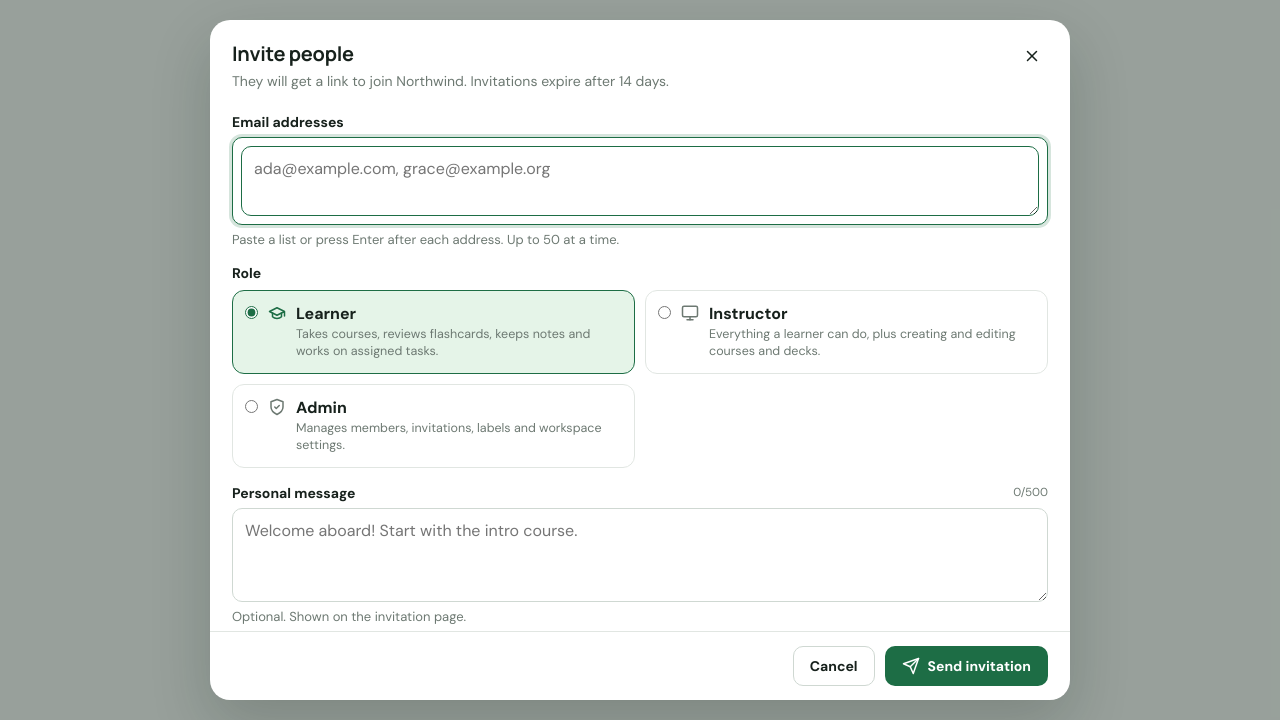
Test: InviteModal › removes a chip with its button
In the text box named "Email addresses": (640, 181) top-left (241, 146), bottom-right (1039, 216), type "ada@example.com, grace@example.org,"
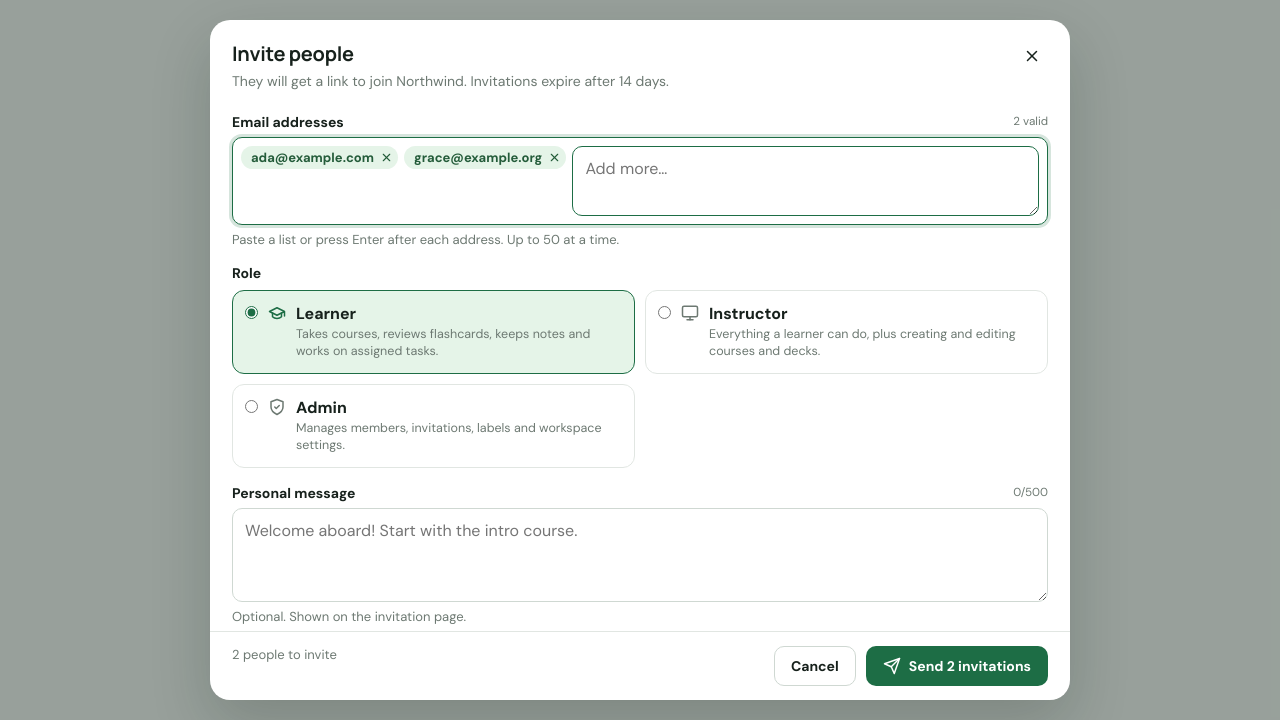
Click the button named "Remove ada@example.com": (386, 157) top-left (378, 149), bottom-right (395, 166)
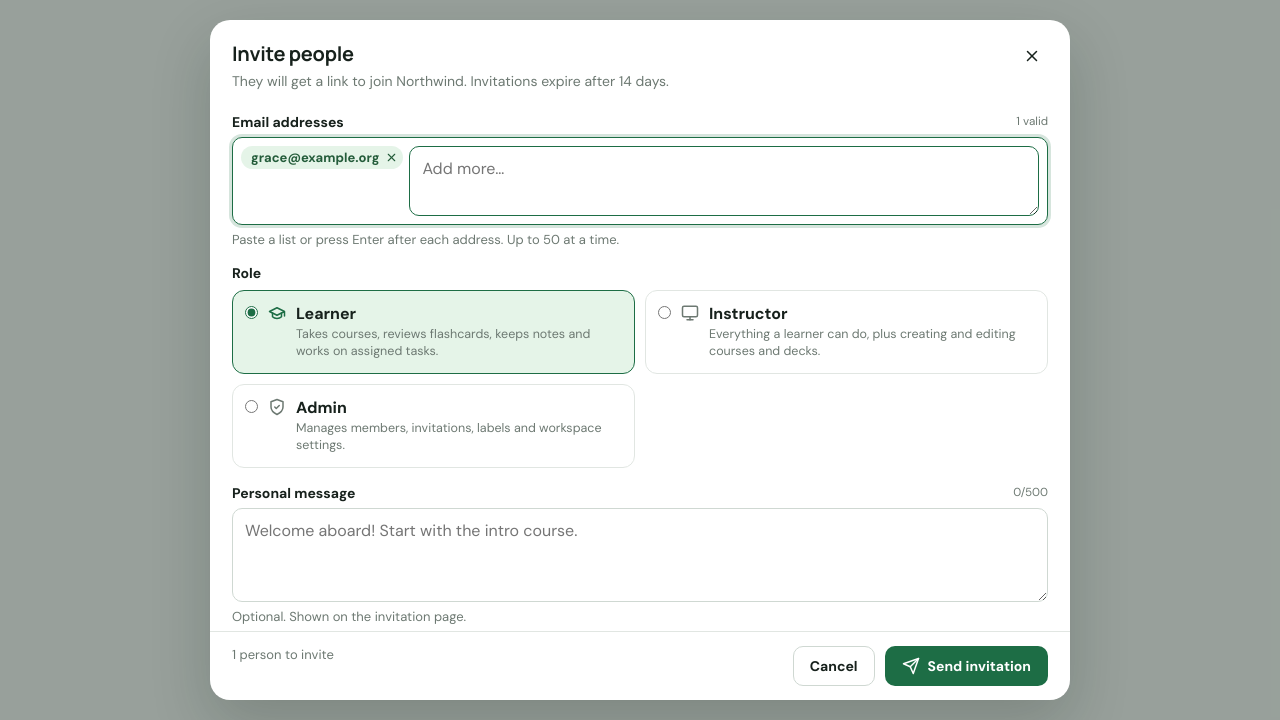
Expected: the number of elements with class "email-chip" is 1, top-left (241, 146), bottom-right (403, 169)
